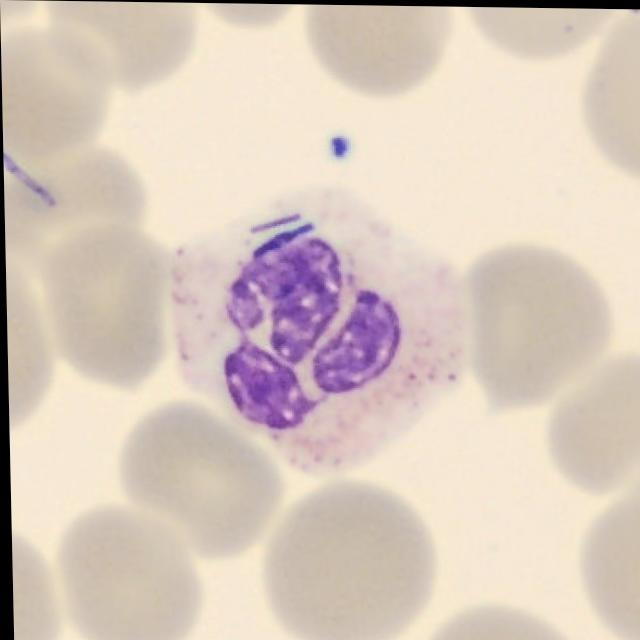Neutrofilo segmentado: (168, 191, 469, 481)
